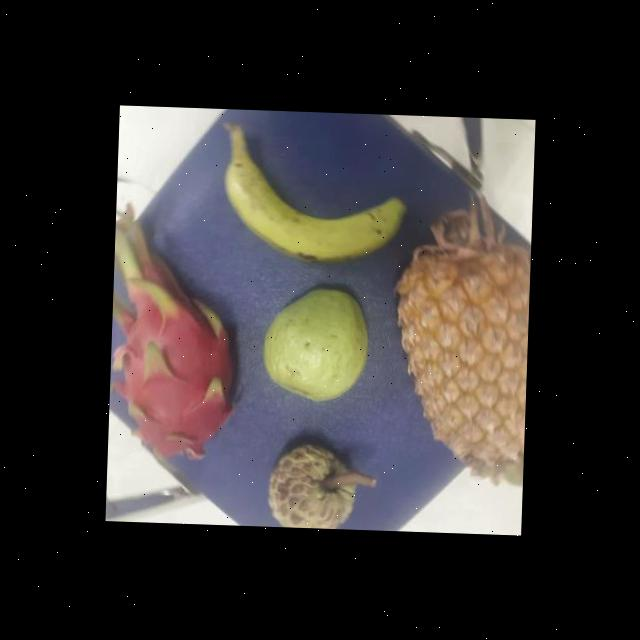Sakya fruit: (261, 436, 368, 530)
banana: (216, 143, 398, 264)
guava: (255, 286, 370, 402)
pitaya: (108, 297, 244, 453)
